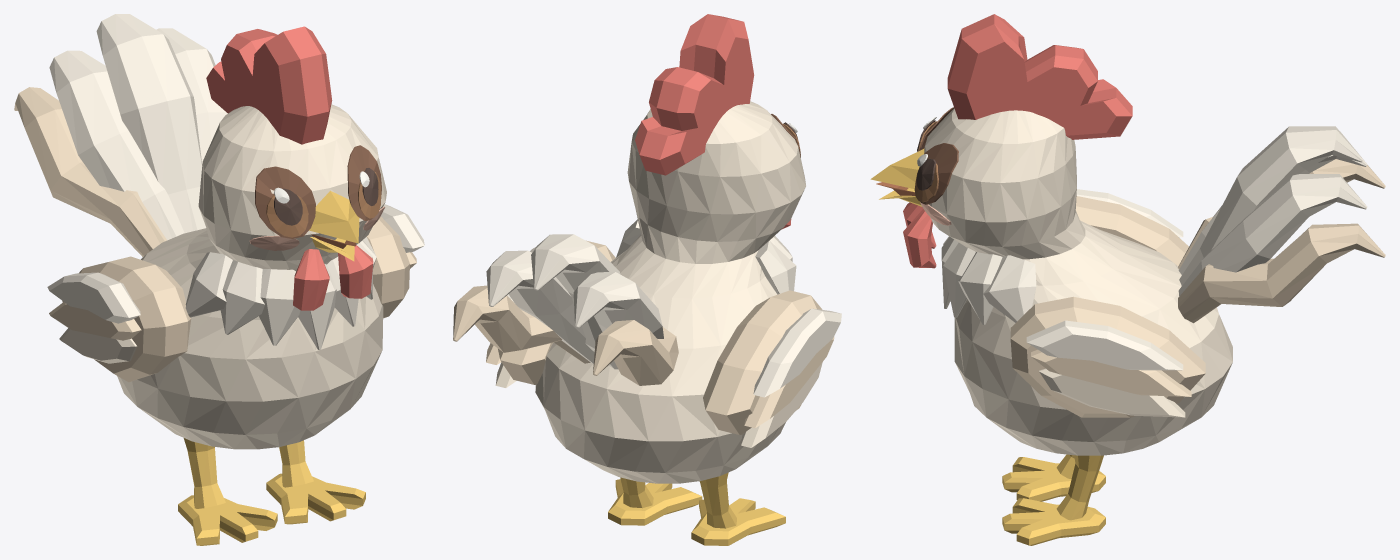
Rendered from chicken-v2.glb.
3 views of the same model, side by side, from view 1: azimuth 30°, elevation 25°; view 2: azimuth 150°, elevation 25°; view 3: azimuth 270°, elevation 25° (orthographic). The views are drawn at different scales.
Parts seen in each view (by area): view 1: Body_Head, Tail_00, Comb, Tail_01, Tail_03, Wing_L, Foot_R, Foot_L, Tail_02, WingFeather_L0, Wing_R, Collar_01 (+17 smaller); view 2: Body_Head, Comb, Wing_L, Tail_02, Tail_04, Tail_03, Tail_01, Tail_00, WingFeather_L0, Foot_L, Foot_R, WingFeather_L1 (+5 smaller); view 3: Body_Head, Comb, Tail_04, Wing_R, Tail_02, Tail_00, WingFeather_R0, Wing_L, WingFeather_R1, Foot_R, WingFeather_R2, Collar_06 (+10 smaller).
Boxes of the visible parts, bbox=[...] form: Body_Head: bbox=[117, 104, 386, 449]; Tail_00: bbox=[96, 14, 206, 233]; Comb: bbox=[206, 26, 332, 144]; Tail_01: bbox=[49, 50, 184, 240]; Tail_03: bbox=[14, 87, 166, 256]; Wing_L: bbox=[62, 256, 191, 382]; Foot_R: bbox=[266, 473, 365, 524]; Foot_L: bbox=[178, 495, 277, 545]; Tail_02: bbox=[156, 28, 227, 163]; WingFeather_L0: bbox=[47, 272, 140, 323]; Wing_R: bbox=[366, 216, 409, 318]; Collar_01: bbox=[220, 260, 264, 334]; Body_Head: bbox=[535, 101, 805, 483]; Comb: bbox=[635, 14, 754, 175]; Wing_L: bbox=[703, 290, 822, 434]; Tail_02: bbox=[486, 250, 594, 363]; Tail_04: bbox=[453, 285, 590, 363]; Tail_03: bbox=[593, 320, 678, 385]; Tail_01: bbox=[573, 272, 663, 338]; Tail_00: bbox=[531, 234, 620, 369]; WingFeather_L0: bbox=[753, 308, 841, 397]; Foot_L: bbox=[691, 498, 785, 545]; Foot_R: bbox=[608, 479, 702, 525]; WingFeather_L1: bbox=[744, 336, 834, 428]; Body_Head: bbox=[924, 108, 1232, 455]; Comb: bbox=[947, 14, 1132, 139]; Tail_04: bbox=[1178, 223, 1385, 323]; Wing_R: bbox=[1010, 296, 1205, 417]; Tail_02: bbox=[1178, 174, 1367, 295]; Tail_00: bbox=[1179, 126, 1363, 285]; WingFeather_R0: bbox=[1026, 320, 1183, 370]; Wing_L: bbox=[1075, 196, 1188, 265]; WingFeather_R1: bbox=[1031, 349, 1191, 396]; Foot_R: bbox=[1002, 498, 1105, 545]; WingFeather_R2: bbox=[1039, 368, 1185, 417]; Collar_06: bbox=[983, 255, 1036, 322].
Bounding box in the file's own units: 1.69 × 2.65 × 2.53.
